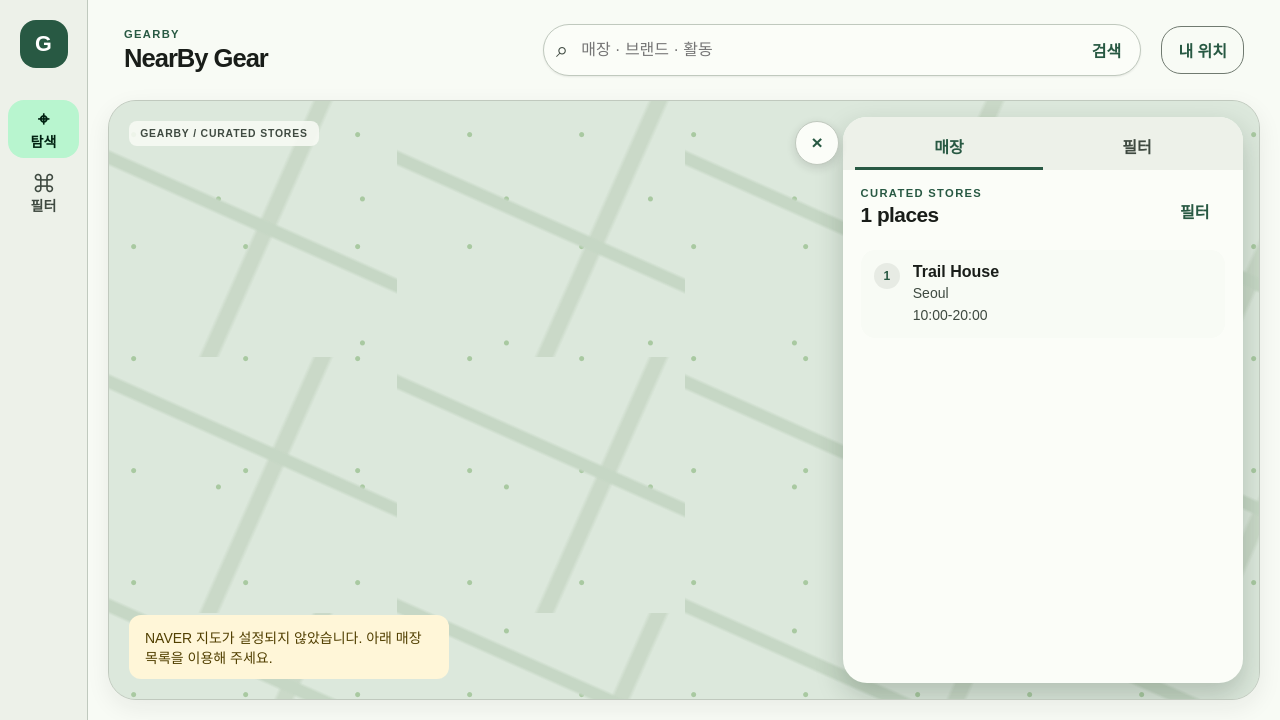
Scenario: Discovery › removes stale correction guidance when the next search fails
Type "trail" into the field named "검색".
click(826, 50); type("trail")  # box [579,28,1073,72]
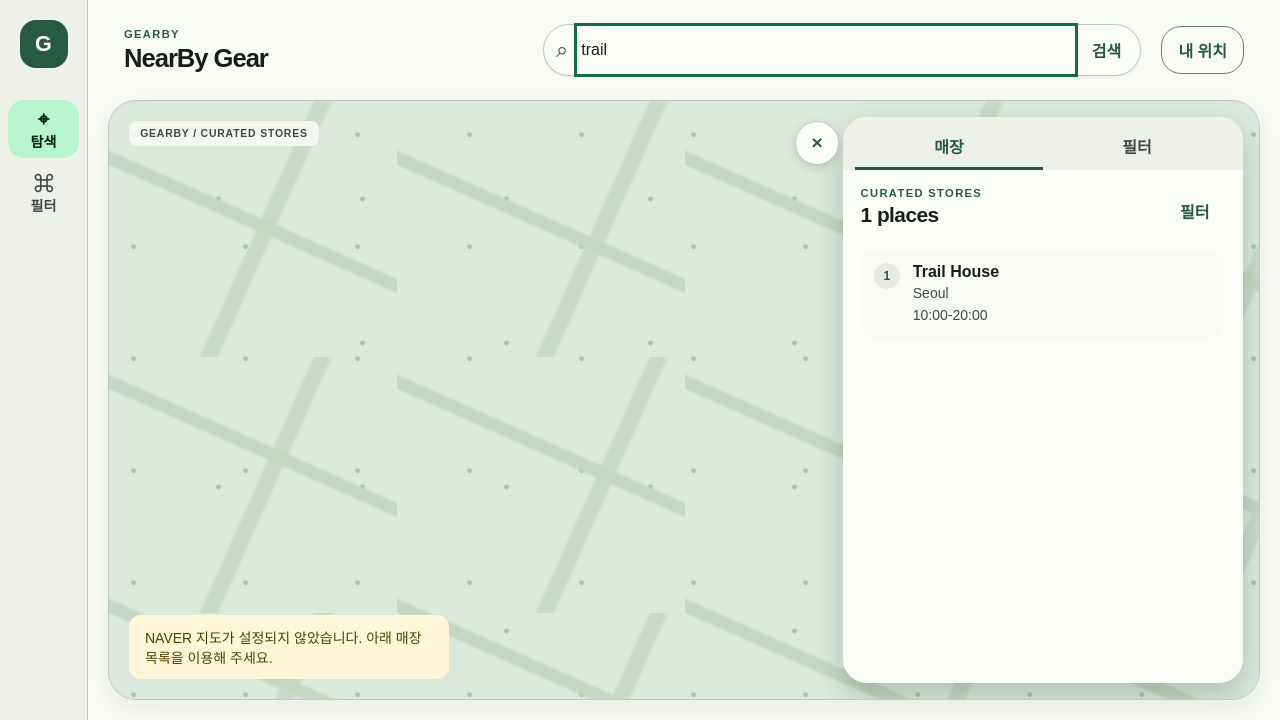
Click the button "검색".
click(1106, 50)  # box [1084,28,1128,72]
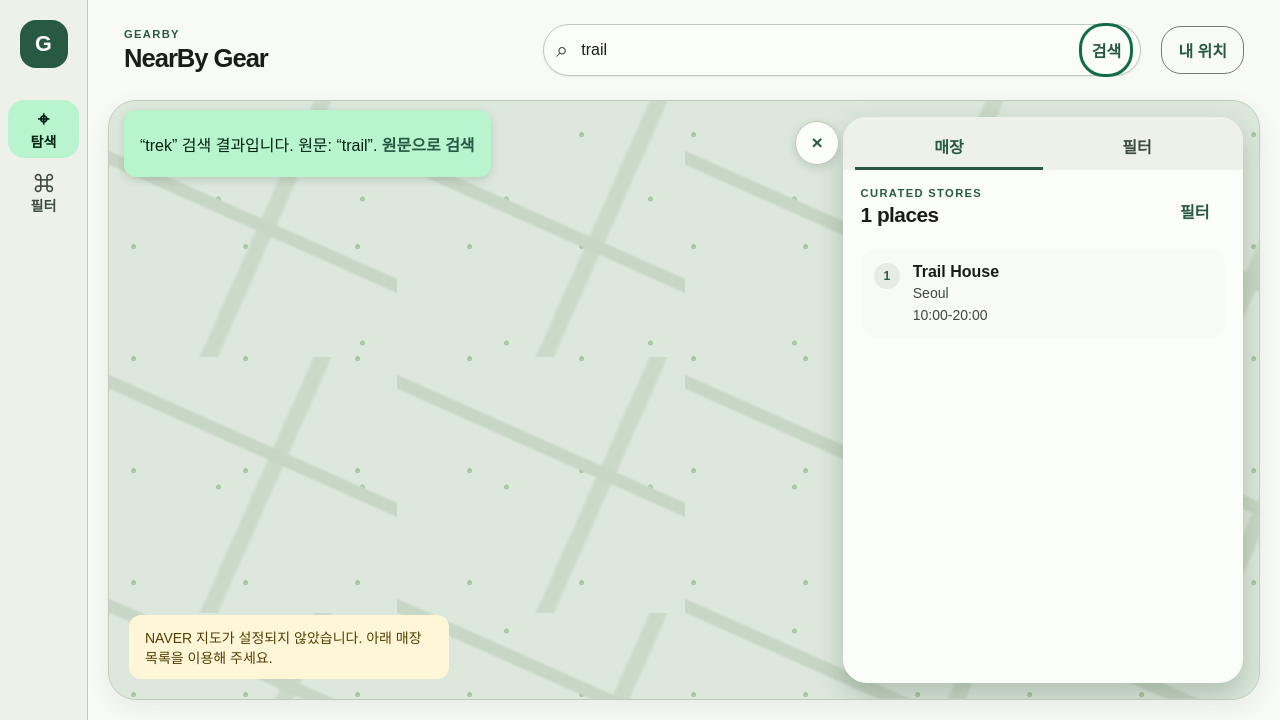
Now the button "원문으로 검색" is shown, box [382,122,475,166]
Replace the text in the field named "검색" with "broken" at (826, 50), box [579,28,1073,72]
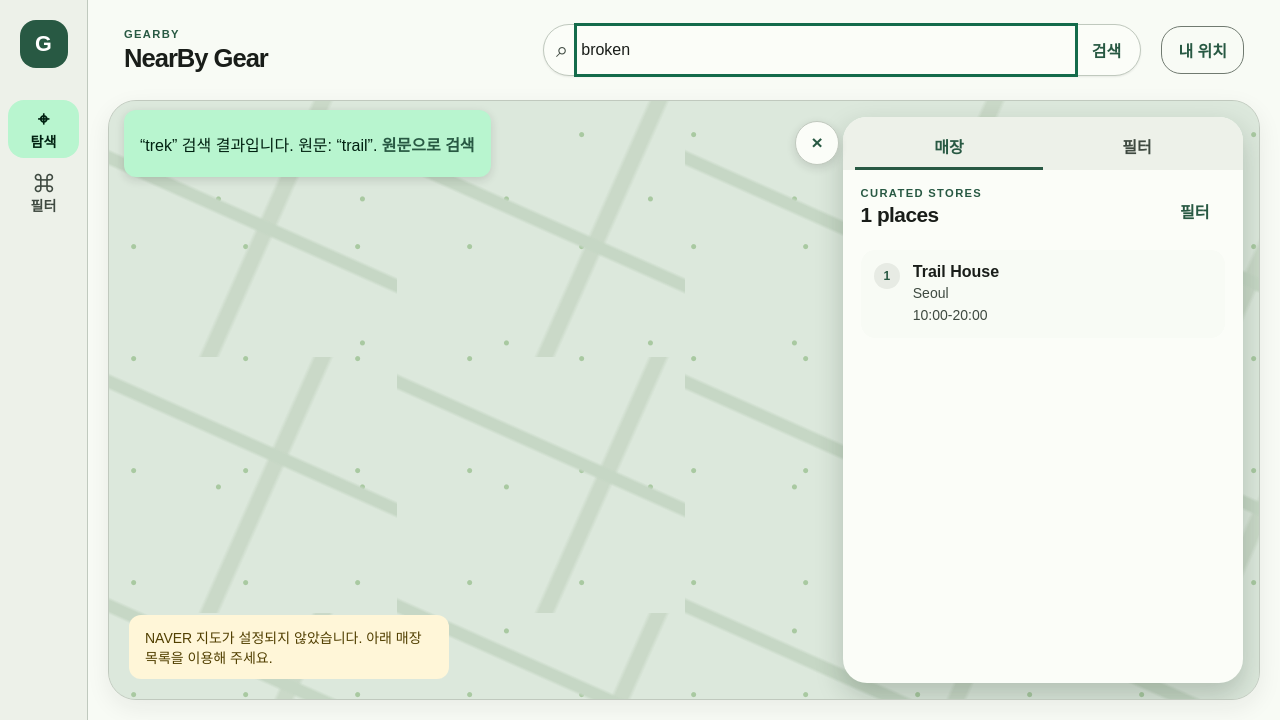
Click the button "검색".
click(1106, 50)  # box [1084,28,1128,72]
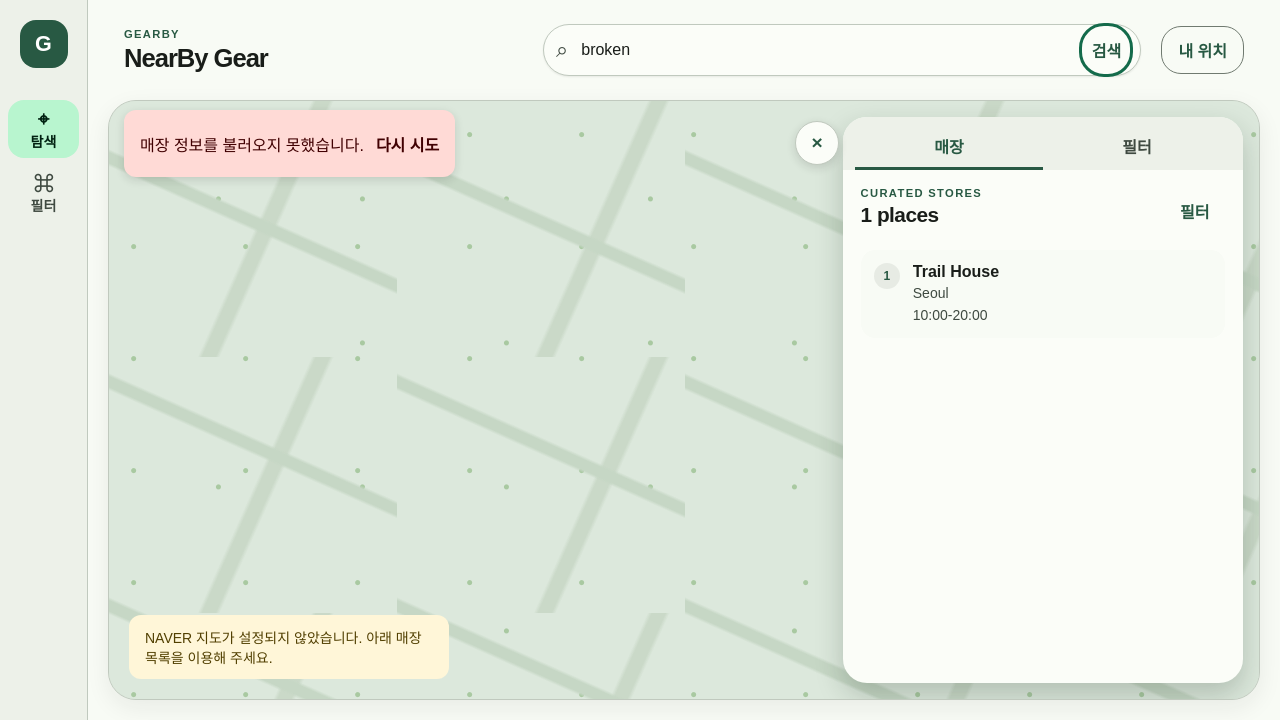
Expected: the text "Trail House" is shown, [913,263,999,280]
Now the message "매장 정보를 불러오지 못했습니다. 다시 시도" is shown, box [124,110,455,177]
Now the button "원문으로 검색" is gone
